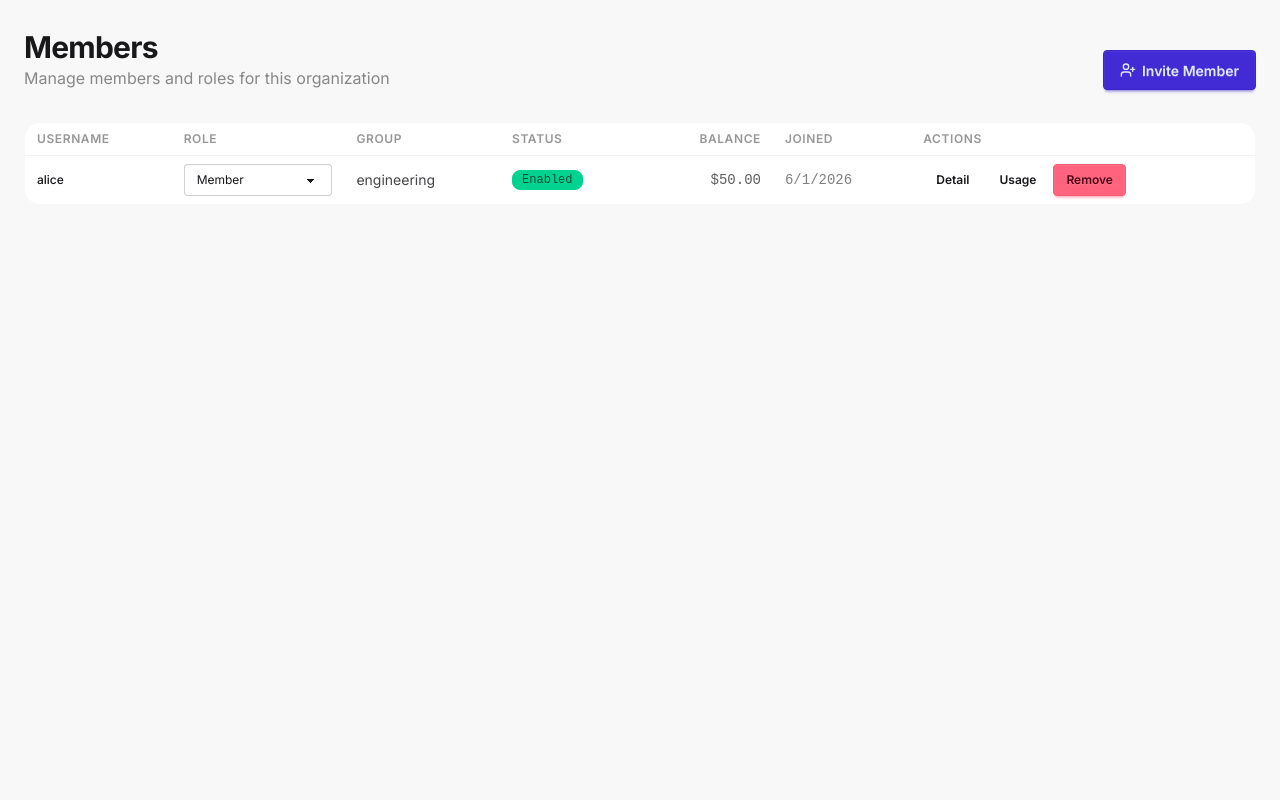
Scenario: Members page › clicking the Detail button opens the member drawer
Expected: the button "alice" is shown, top-left (37, 171), bottom-right (64, 189)
Click the button "Detail".
click(953, 180)  # box top-left (923, 164), bottom-right (982, 196)
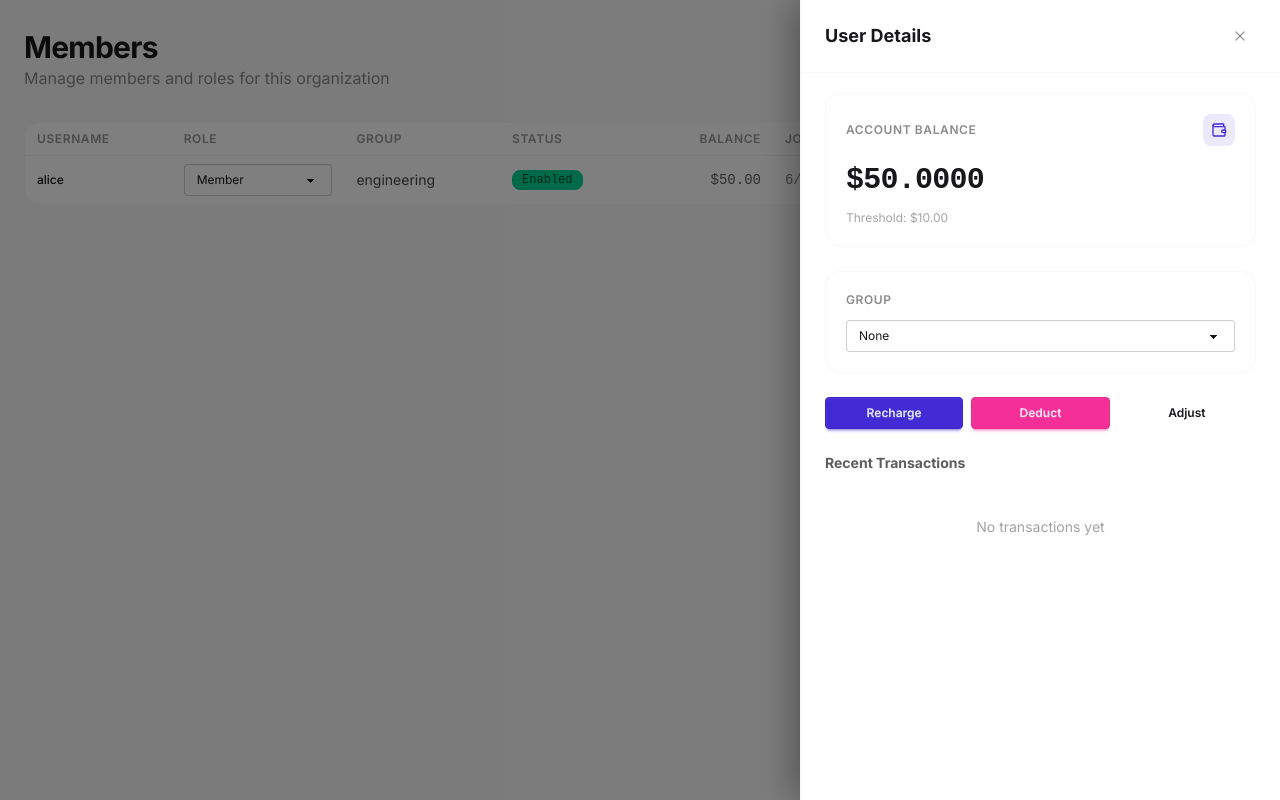
Now the heading "User Details" is shown, box top-left (825, 22), bottom-right (931, 50)
